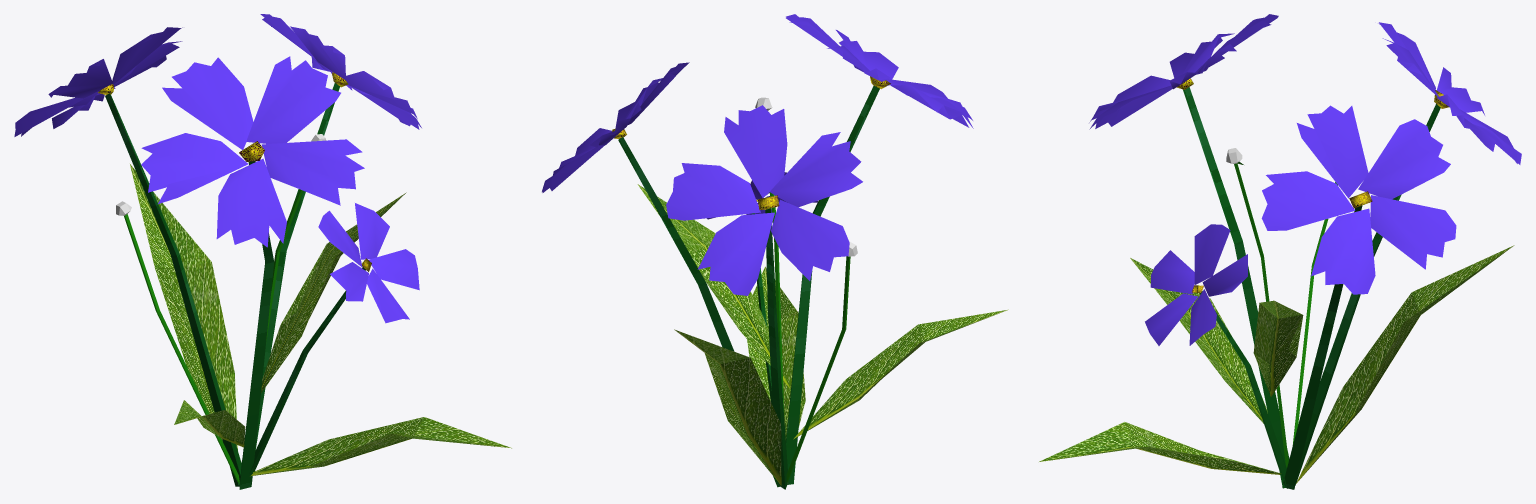
File: flower_blue.glb
3 renders of one model, left to right at view 1: azimuth 30°, elevation 25°; view 2: azimuth 150°, elevation 25°; view 3: azimuth 270°, elevation 25°, orthographic.
Visible parts, largest first — view 1: Circle.015; view 2: Circle.015; view 3: Circle.015.
Part boxes in pixels (x1=…): Circle.015: x1=14, y1=14, x2=511, y2=489; Circle.015: x1=542, y1=14, x2=1008, y2=489; Circle.015: x1=1039, y1=14, x2=1521, y2=489.
Size of the model in its own units: 1.44 by 1.77 by 1.73.
Materials: 7 (3 with a texture image).
